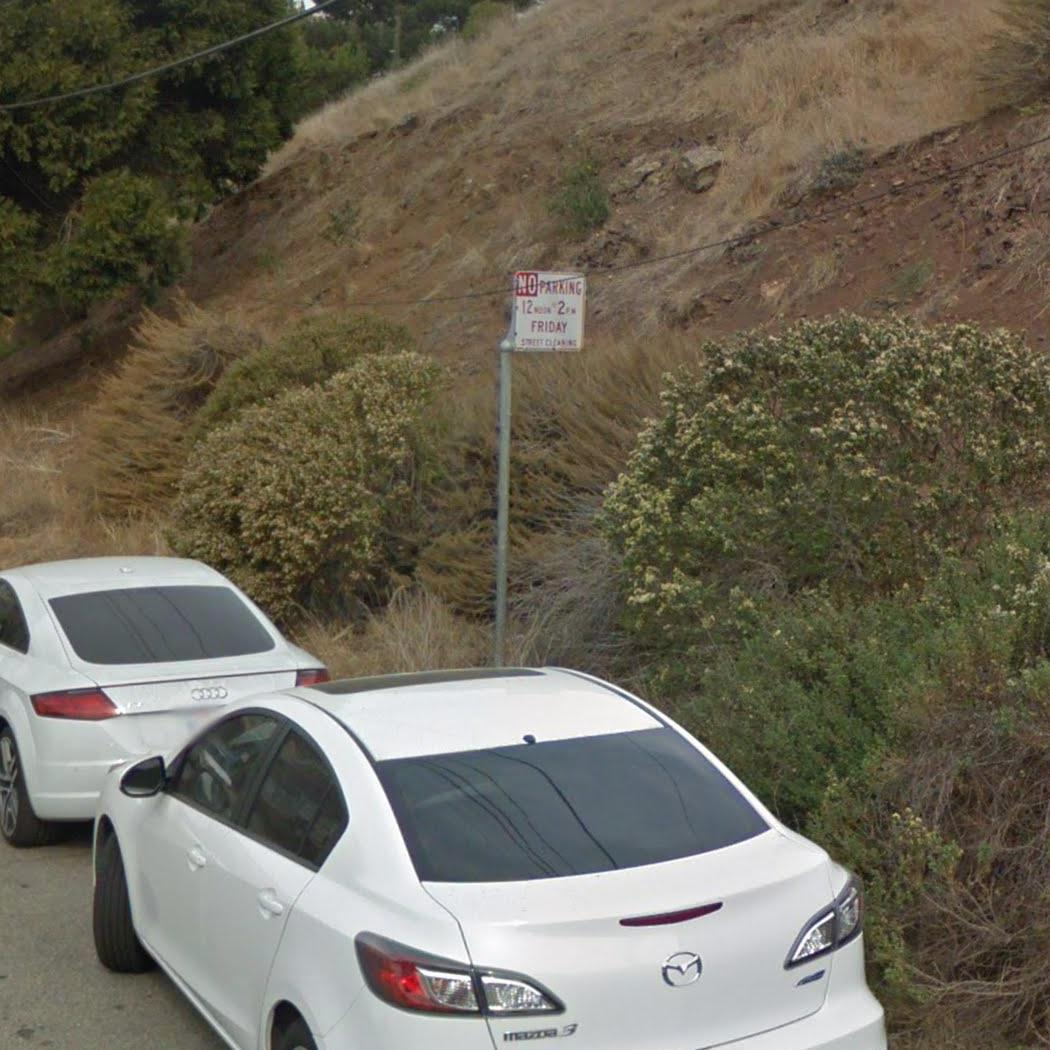No Parking: (510, 266, 588, 351)
